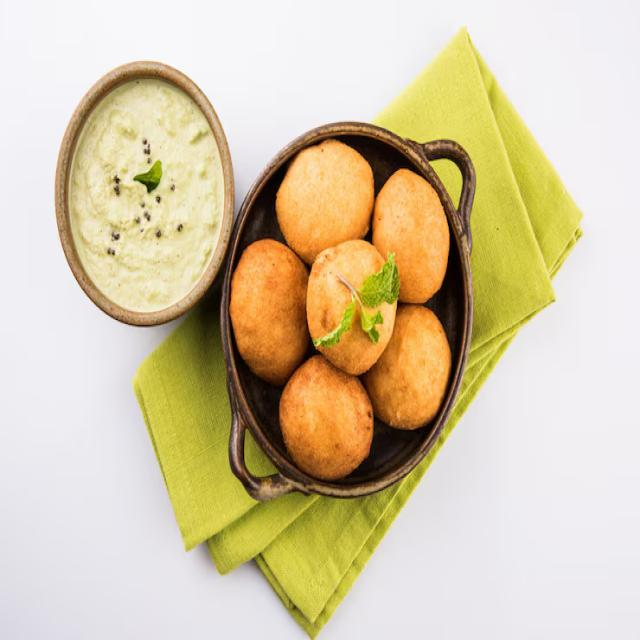BONDA: (230, 138, 453, 479)
WHITE CHUTNEY: (67, 76, 227, 314)
